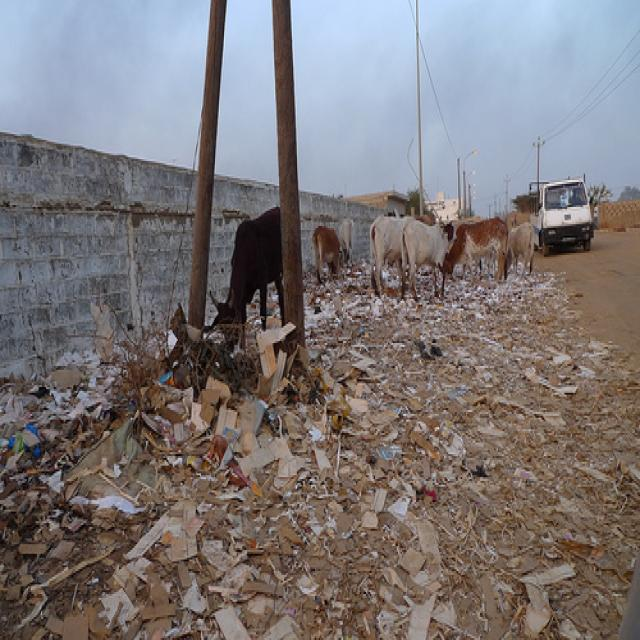Vehicle: (528, 172, 595, 256)
